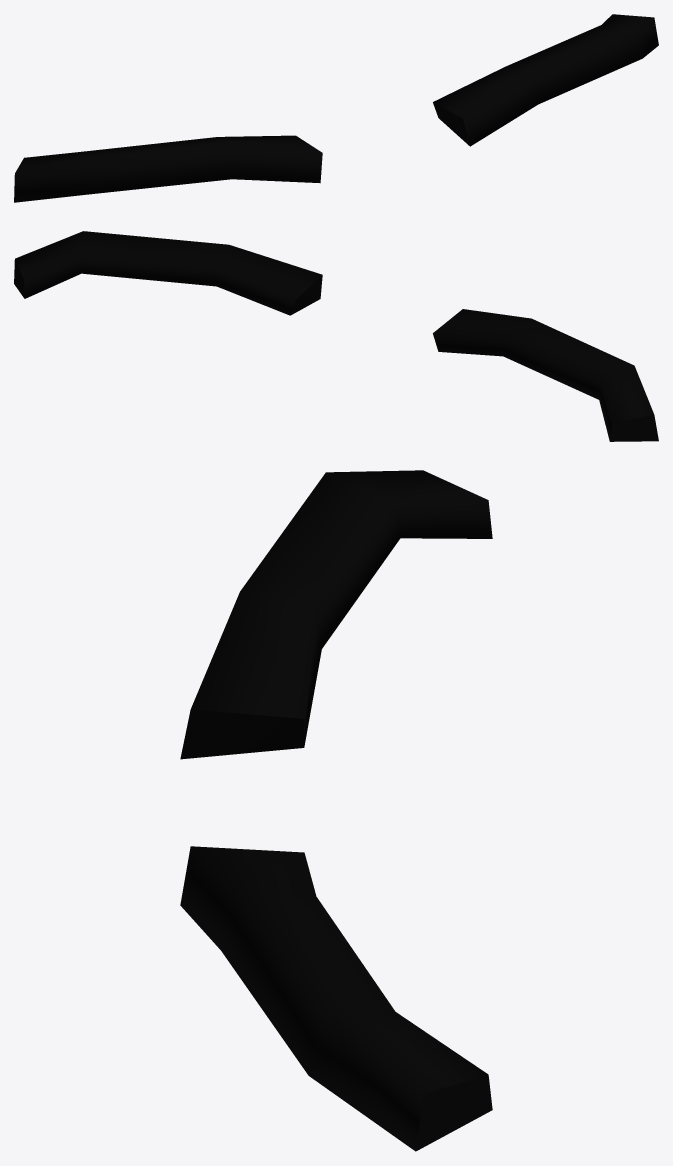
File: m_e_jojaryong.FBX
The picture shows the model from 3 angles, top to bottom: view 1: azimuth 30°, elevation 25°; view 2: azimuth 150°, elevation 25°; view 3: azimuth 270°, elevation 25°; orthographic projection. The views are drawn at different scales.
Parts seen in each view (by area): view 1: eye; view 2: eye; view 3: eye.
Boxes of the visible parts, bbox=[...] form: eye: bbox=[14, 14, 658, 202]; eye: bbox=[14, 231, 658, 441]; eye: bbox=[180, 470, 492, 1151].
Bounding box in the file's own units: 4.75 × 0.3435 × 0.9971.
